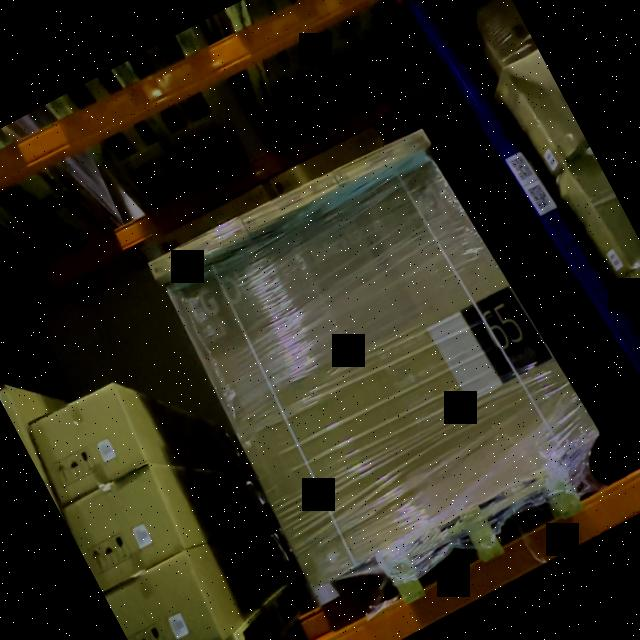box: (170, 155, 578, 578), (147, 213, 250, 285), (242, 167, 344, 239), (340, 122, 430, 184)
